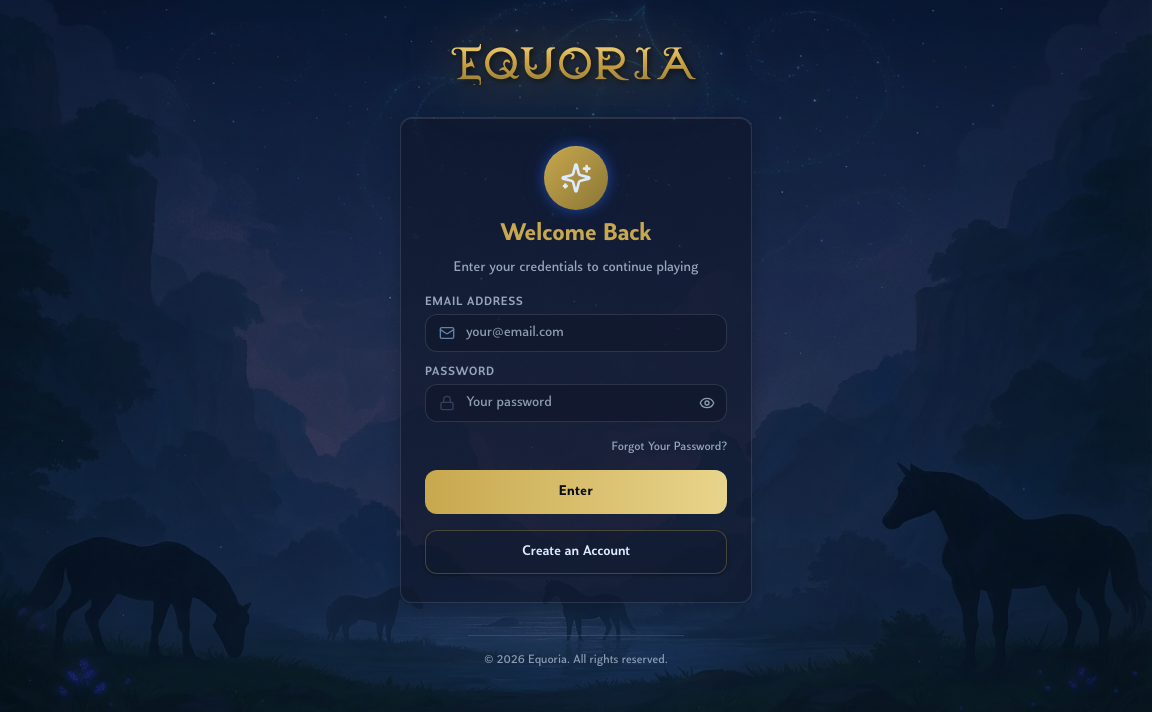
Test case: LoginPage: conduct refusals › says a banned account has been banned
Type "john@example.com" into the field labelled "Email Address" at (576, 332), box [425, 314, 727, 352]
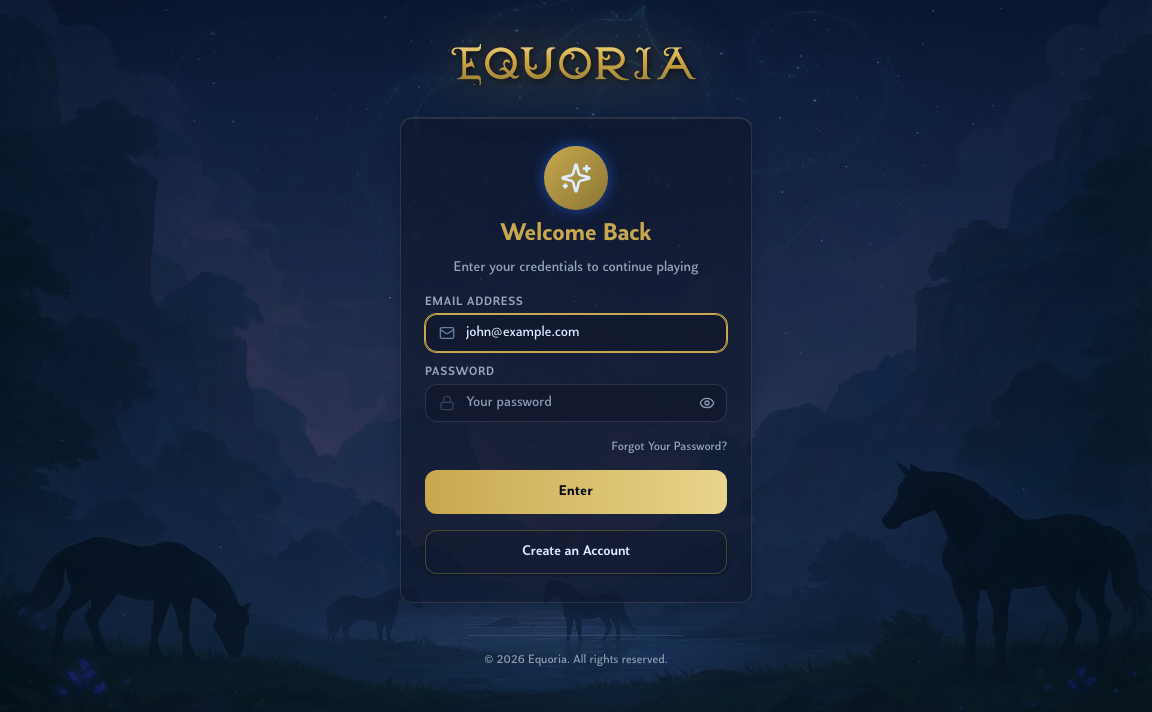
Type "password123" into the password field labelled "Password" at (576, 402), box [425, 384, 727, 422]
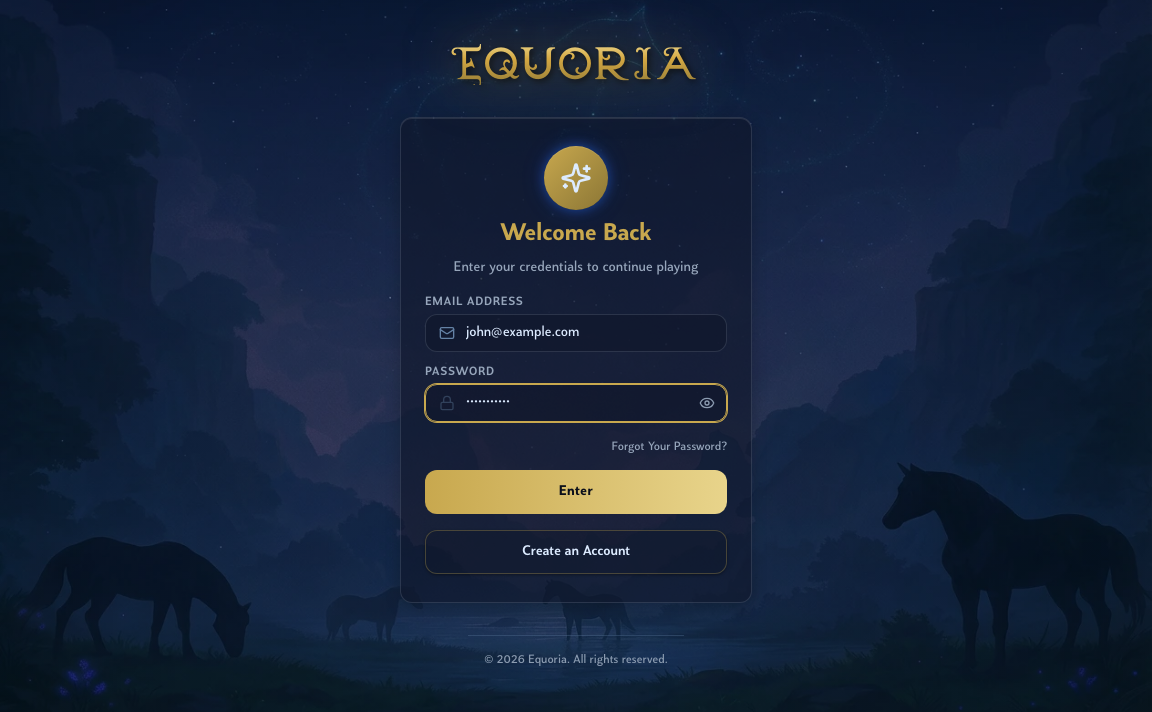
Click the button "Enter" at (576, 492), box [425, 470, 727, 514]
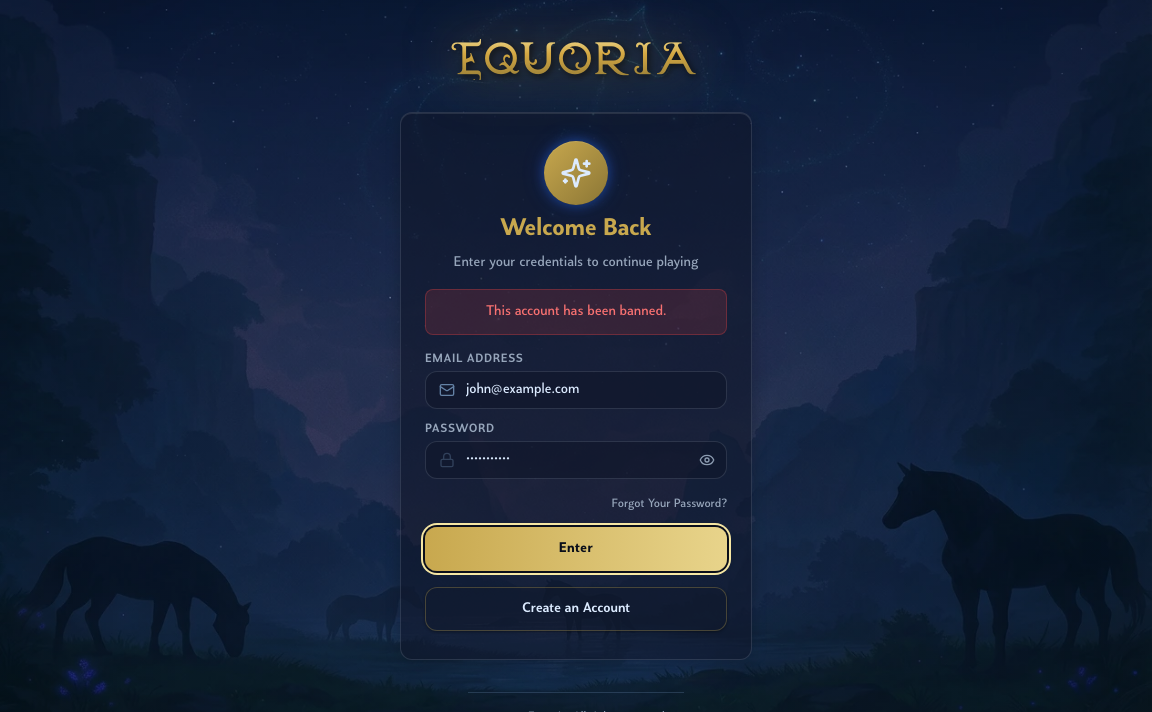
Check: the text "This account has been banned." is shown, box [486, 304, 666, 319]
